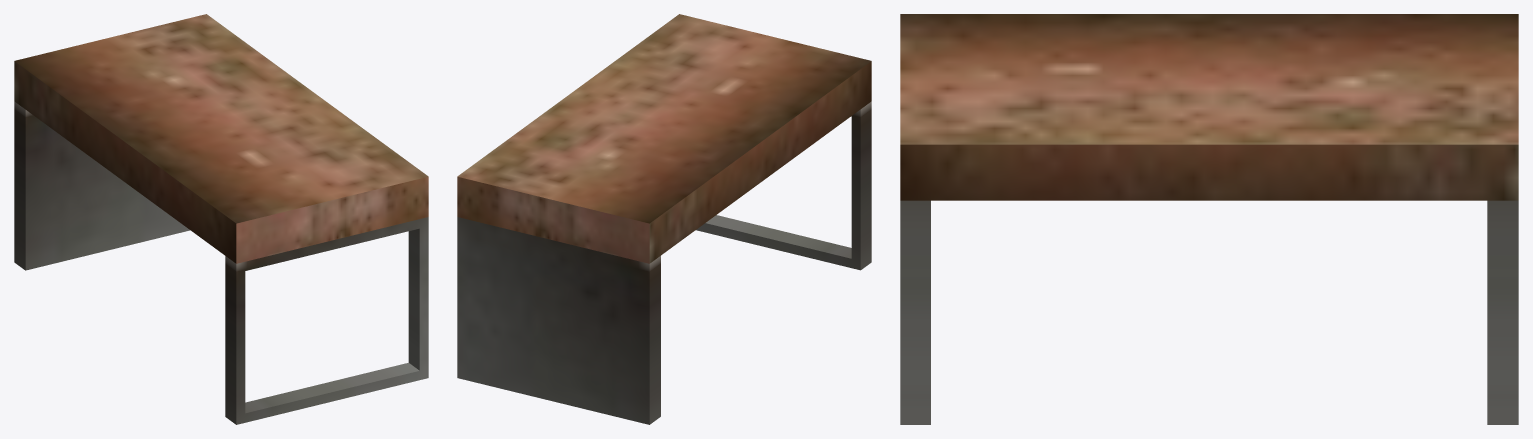
The model's file is desk_1.fbx.
3 renders of one model, left to right at view 1: azimuth 30°, elevation 25°; view 2: azimuth 150°, elevation 25°; view 3: azimuth 270°, elevation 25°, orthographic. The views are drawn at different scales.
Parts seen in each view (by area): view 1: Plane; view 2: Plane; view 3: Plane.
Boxes of the visible parts, x1,y1,x2,y2 form: Plane: [14, 14, 428, 424]; Plane: [457, 14, 871, 424]; Plane: [900, 14, 1518, 424].
Bounding box in the file's own units: 75 × 75 × 150.
